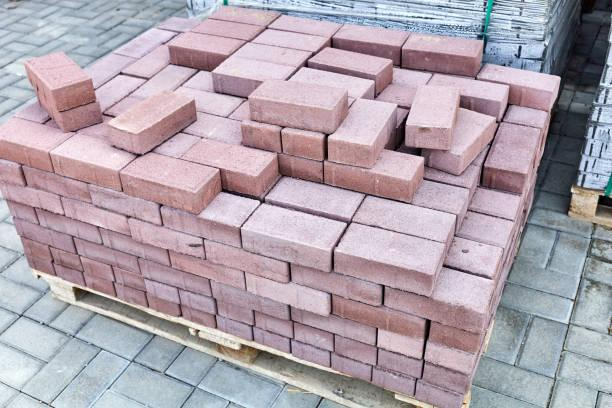Bricks: (333, 221, 447, 296), (380, 264, 498, 335), (239, 201, 347, 272), (122, 153, 224, 216), (178, 136, 283, 197), (352, 193, 458, 253), (163, 191, 264, 249), (105, 92, 196, 156), (247, 82, 349, 134), (328, 96, 397, 170), (321, 151, 428, 198), (106, 63, 198, 117), (424, 107, 496, 176), (52, 134, 136, 192), (265, 175, 366, 223), (25, 50, 97, 114), (0, 117, 75, 177), (481, 120, 541, 195), (333, 295, 426, 340), (306, 47, 394, 94), (288, 265, 383, 308), (479, 63, 562, 111), (427, 74, 511, 121), (245, 273, 332, 316), (403, 86, 463, 148), (205, 240, 289, 282), (401, 34, 484, 76), (214, 55, 294, 98), (334, 22, 411, 66), (168, 31, 249, 72), (211, 280, 288, 323), (292, 307, 378, 345), (88, 184, 161, 227), (169, 249, 247, 289), (129, 218, 204, 259), (407, 179, 470, 227), (139, 259, 213, 298), (287, 67, 376, 99), (63, 199, 134, 239), (443, 236, 505, 280), (457, 205, 517, 250), (23, 167, 94, 204), (100, 230, 170, 267), (37, 93, 106, 130), (12, 216, 75, 256), (73, 238, 141, 275), (231, 42, 315, 71), (36, 210, 105, 245), (169, 87, 248, 117), (95, 73, 147, 114), (81, 54, 138, 90), (181, 111, 244, 143), (2, 184, 65, 216), (112, 28, 177, 59), (468, 188, 524, 222), (422, 340, 476, 375), (428, 322, 482, 355), (190, 20, 268, 42), (267, 14, 341, 37), (375, 329, 426, 361), (123, 44, 169, 79), (424, 363, 473, 395), (412, 377, 463, 407), (211, 5, 282, 26), (377, 346, 423, 378), (292, 321, 336, 354), (283, 130, 328, 161), (334, 337, 379, 366), (372, 369, 418, 397), (330, 355, 371, 383), (252, 327, 292, 354), (289, 341, 330, 367), (502, 107, 550, 129), (216, 314, 254, 340), (6, 200, 41, 228), (49, 247, 85, 274), (179, 289, 215, 315), (216, 301, 253, 326), (255, 314, 293, 338), (81, 257, 114, 283), (145, 281, 180, 305), (83, 272, 116, 297), (114, 267, 146, 292), (156, 16, 202, 33), (181, 69, 215, 92), (181, 307, 215, 330), (1, 158, 25, 190), (147, 294, 179, 316), (24, 237, 51, 262), (116, 287, 148, 308), (56, 265, 85, 287), (27, 257, 56, 275)
